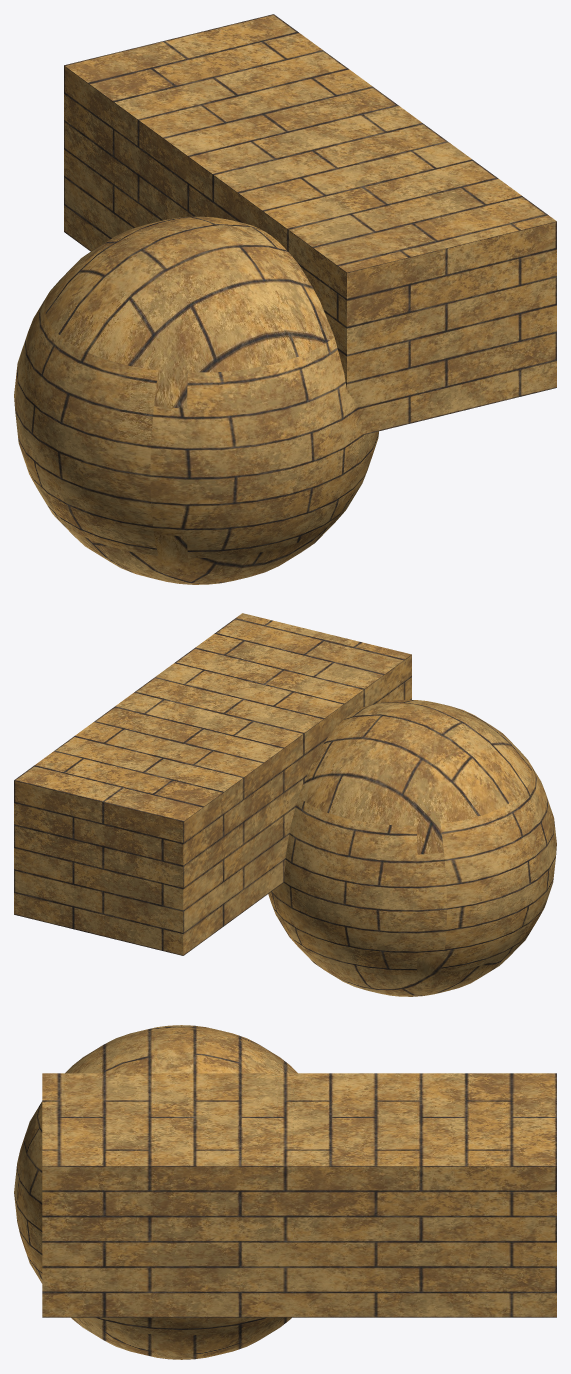
3 views of the same model, one above another, from view 1: azimuth 30°, elevation 25°; view 2: azimuth 150°, elevation 25°; view 3: azimuth 270°, elevation 25° (orthographic). The views are drawn at different scales.
Visible parts, largest first — view 1: Box001; view 2: Box001; view 3: Box001.
Boxes of the visible parts, x1,y1,x2,y2 form: Box001: (14, 14, 556, 584); Box001: (14, 613, 556, 996); Box001: (14, 1025, 556, 1359).
Bounding box in the file's own units: 53.53 × 38.66 × 62.65.
1 material, 1 textured.
